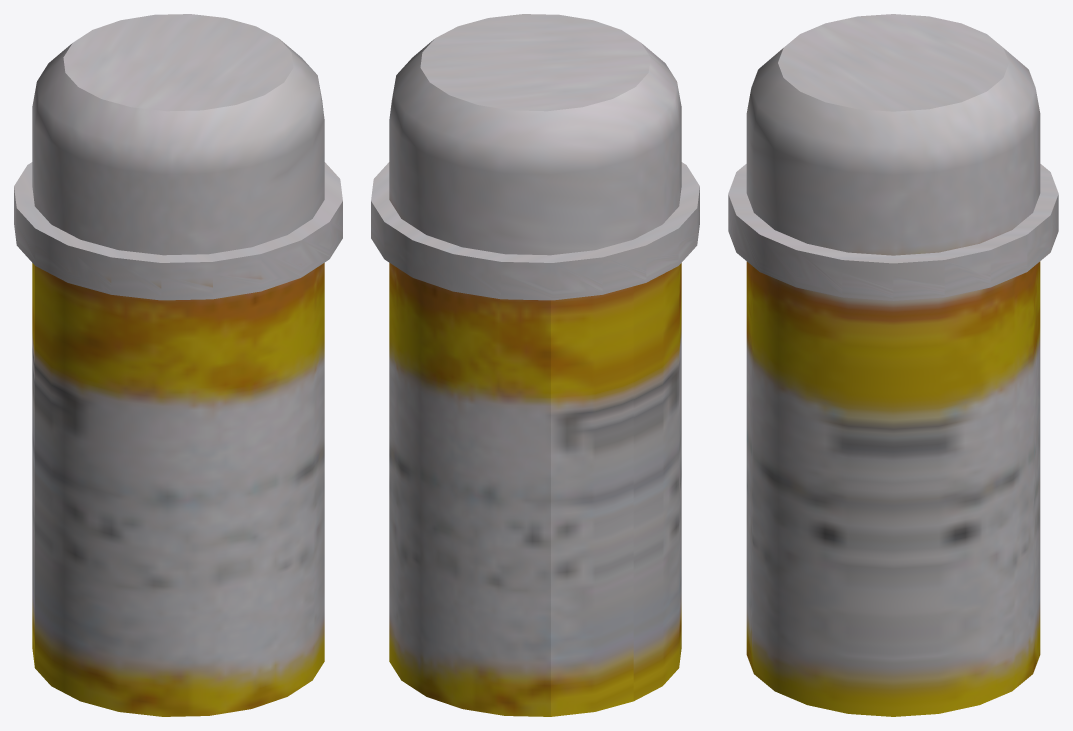
Rendered from Bottle of Pills.fbx.
The picture shows the model from 3 angles, left to right: view 1: azimuth 30°, elevation 25°; view 2: azimuth 150°, elevation 25°; view 3: azimuth 270°, elevation 25°; orthographic projection.
Parts seen in each view (by area): view 1: pCylinder1; view 2: pCylinder1; view 3: pCylinder1.
Boxes of the visible parts, x1=… form: pCylinder1: x1=14, y1=14, x2=342, y2=716; pCylinder1: x1=371, y1=14, x2=699, y2=716; pCylinder1: x1=728, y1=14, x2=1058, y2=716.
Size of the model in its own units: 0.7231 by 1.43 by 0.7231.
1 material, 1 textured.
